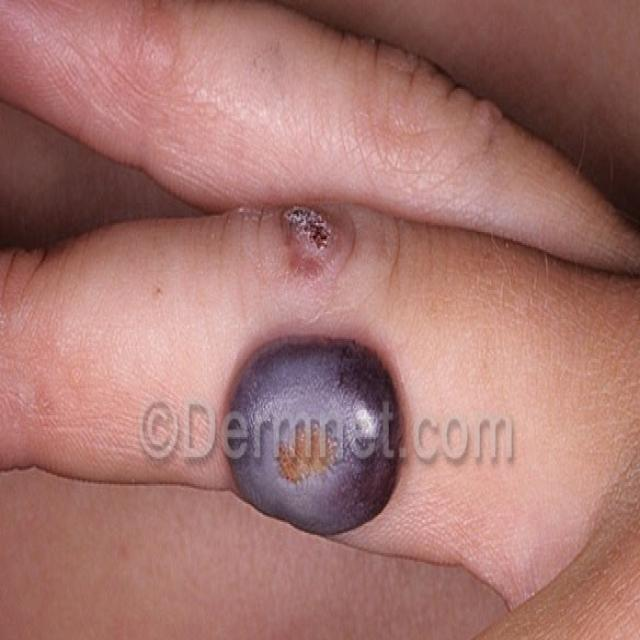Warts: (220, 340, 412, 546), (263, 195, 355, 276)
